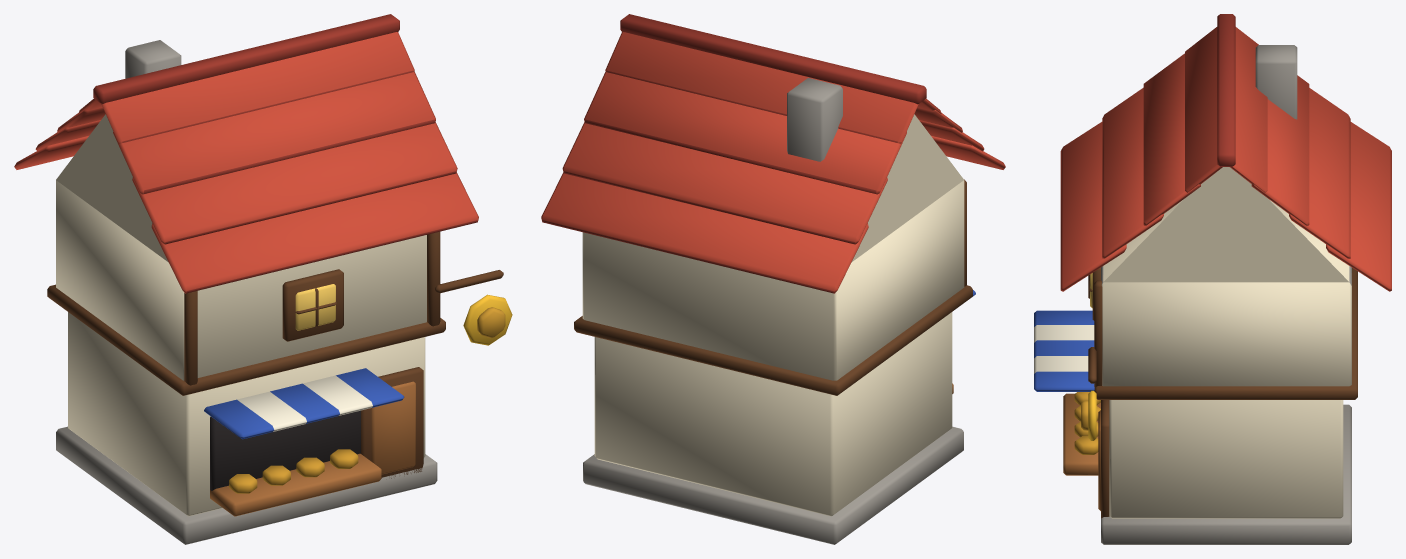
The model's file is B_MedBakery.fbx.
The picture shows the model from 3 angles, left to right: view 1: azimuth 30°, elevation 25°; view 2: azimuth 150°, elevation 25°; view 3: azimuth 270°, elevation 25°; orthographic projection. The views are drawn at different scales.
Visible parts, largest first — view 1: M_Bakery; view 2: M_Bakery; view 3: M_Bakery.
Part boxes in pixels (x1,y1,x2,y2): M_Bakery: [14, 14, 512, 544]; M_Bakery: [541, 14, 1005, 544]; M_Bakery: [1034, 14, 1391, 544].
Bounding box in the file's own units: 4.62 × 5.31 × 4.28.
Materials: 1 (1 with a texture image).
